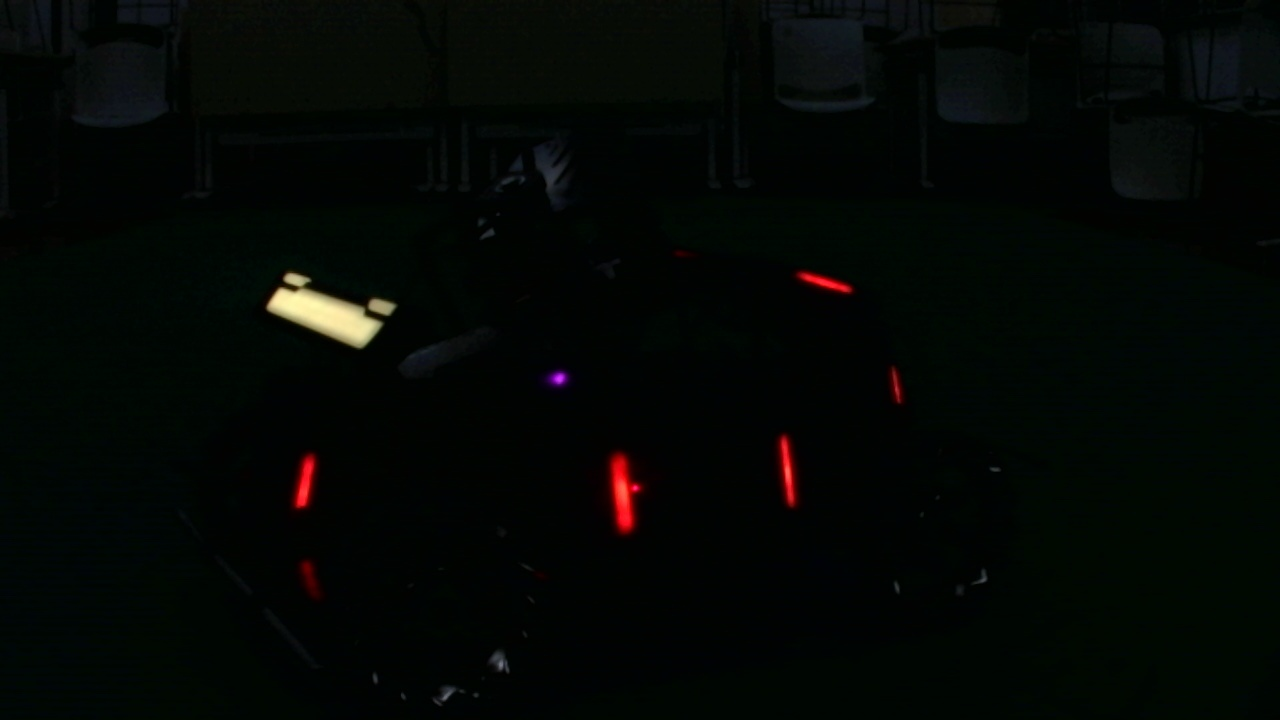lamp: (609, 449, 638, 534), (776, 431, 800, 512), (293, 452, 319, 510)
notpair1: (295, 452, 636, 532)
pair1: (610, 431, 805, 533)
